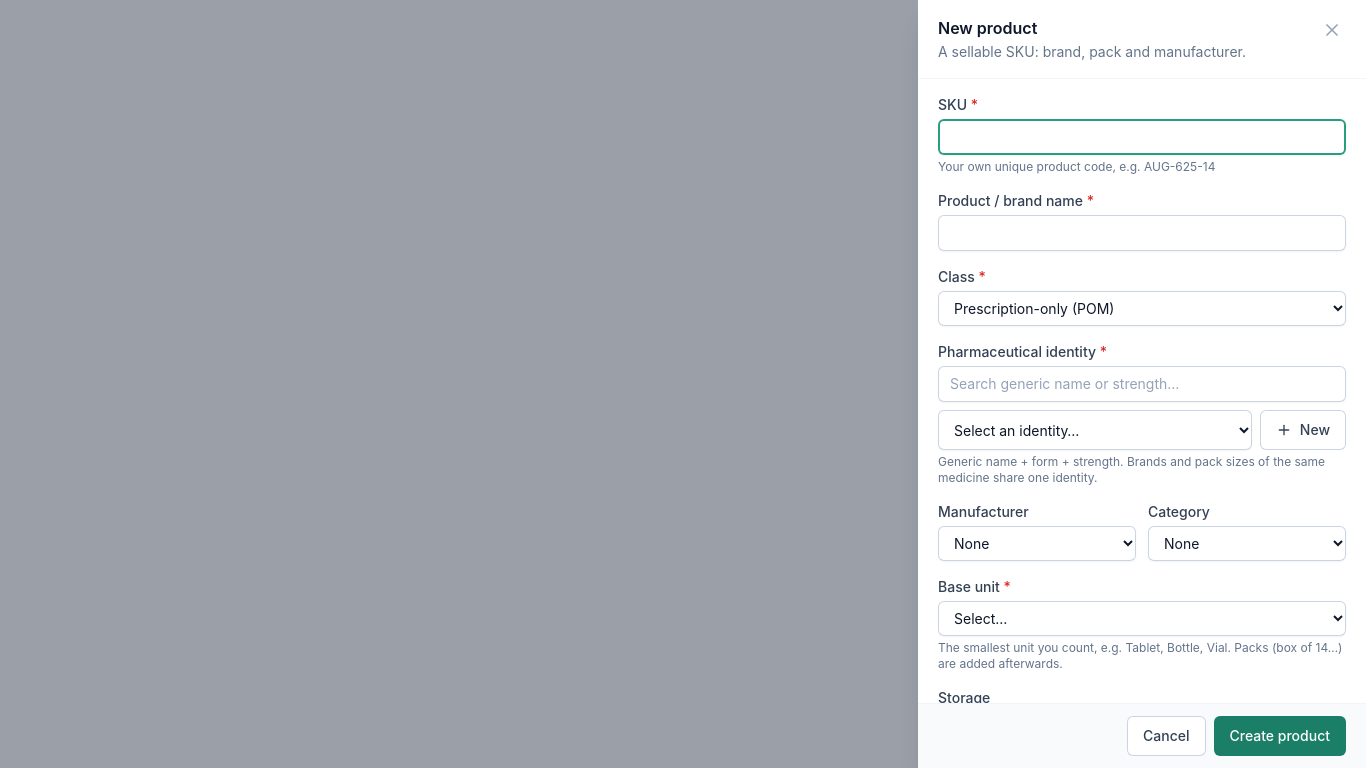
product form › prescription is forced on for POM and controlled classes
Select "General sale (GSL)" in the dropdown labelled "Class *" at (1142, 308), box x1=938 y1=291 x2=1346 y2=326
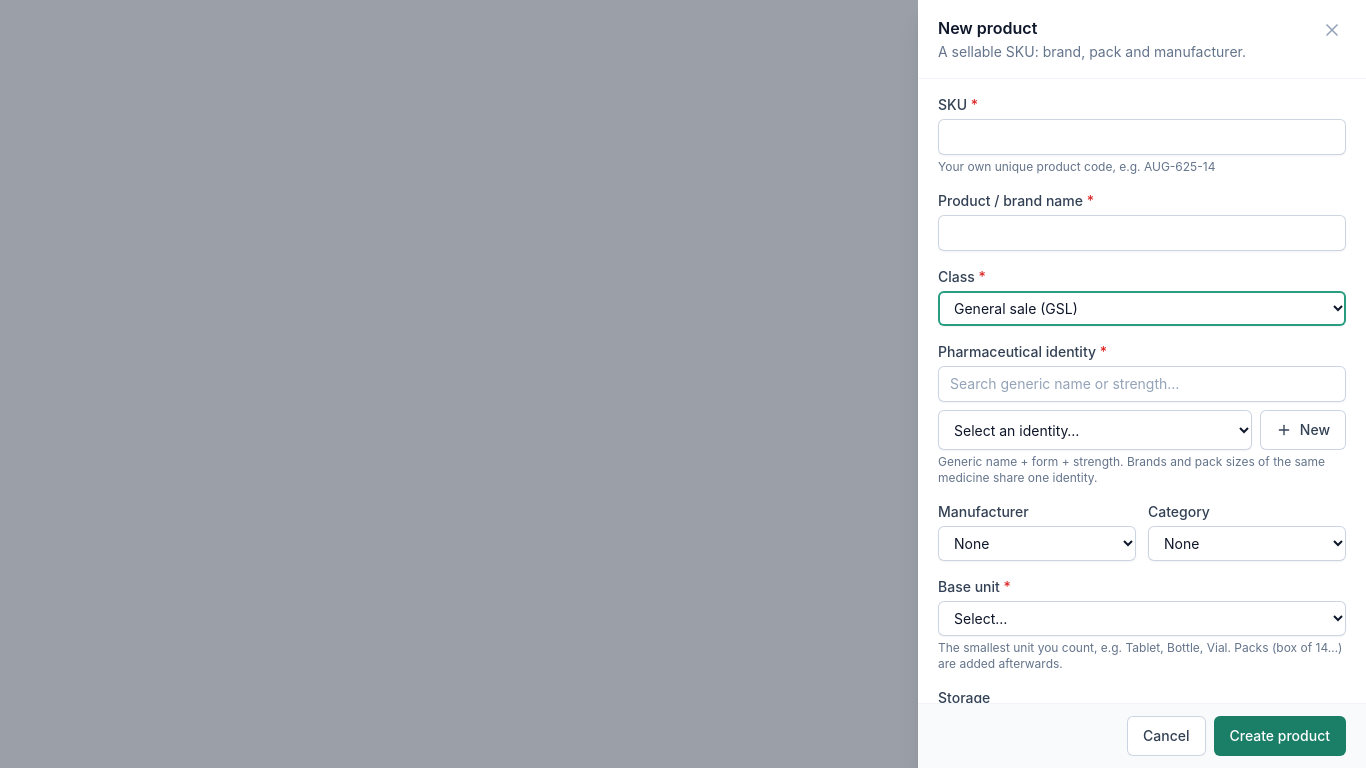
Select "Controlled drug" in the dropdown labelled "Class *" at (1142, 308), box x1=938 y1=291 x2=1346 y2=326
(page scrolled)
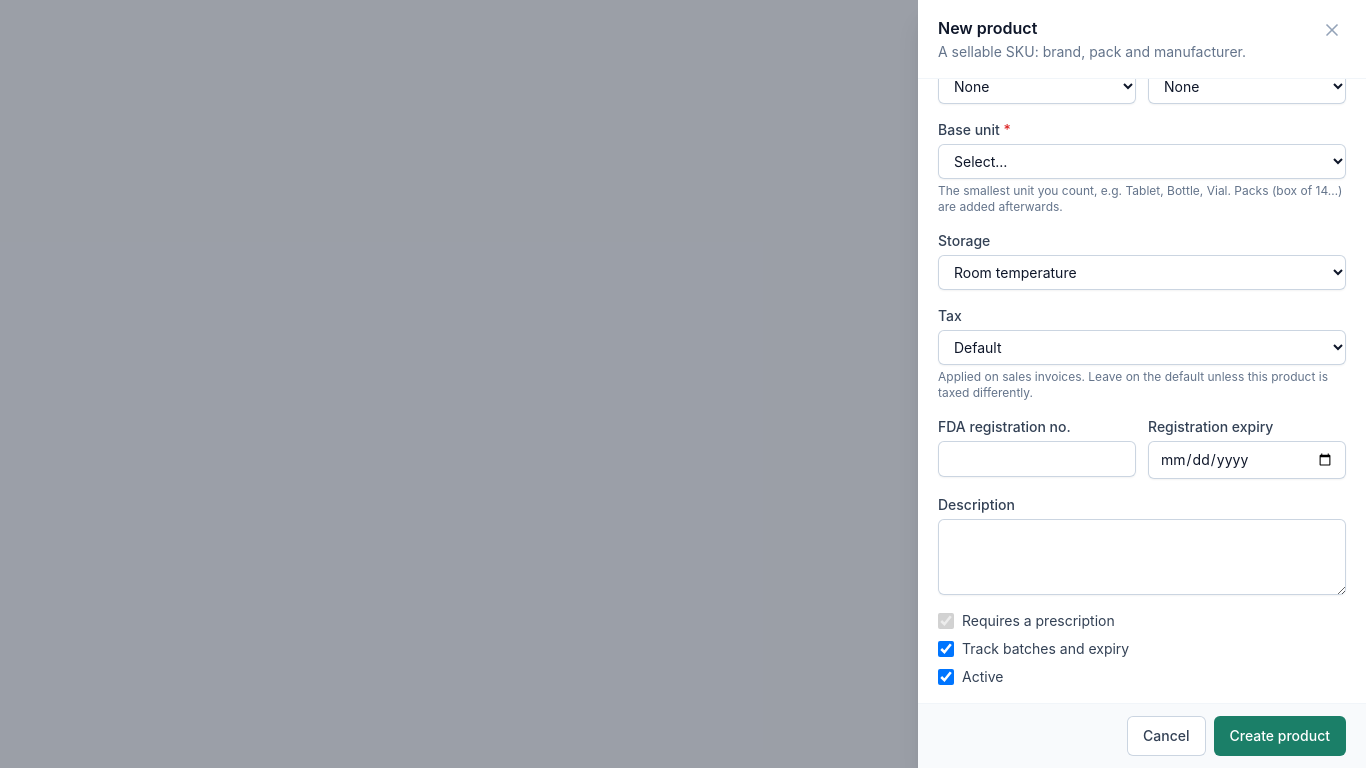
expect the checkbox labelled "Requires a prescription" is checked: met, box x1=938 y1=613 x2=954 y2=629
expect the checkbox labelled "Requires a prescription" is disabled: met, box x1=938 y1=613 x2=954 y2=629
